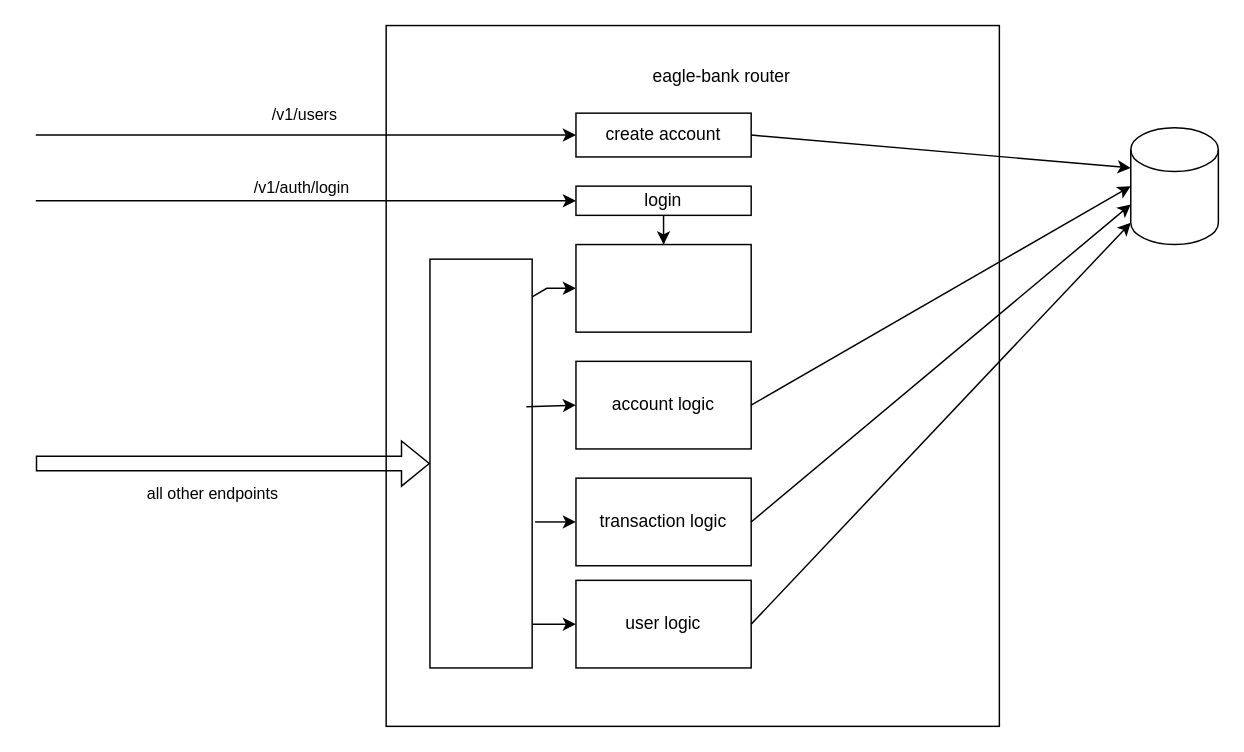
This 1244x752 diagram has some shape labels left out. The centre of each missing label's shape, as x and y in pixels:
JWT: (663,287)
jwt auth middleware: (480,463)
sqlite: (1173,185)
